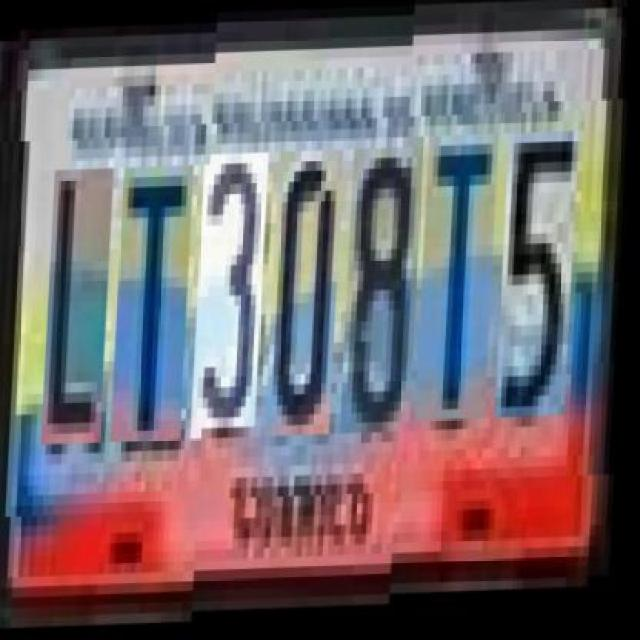0: (269, 142, 346, 428)
3: (196, 144, 272, 421)
5: (499, 135, 581, 422)
8: (345, 139, 426, 427)
l: (46, 148, 117, 426)
t: (419, 137, 501, 425), (115, 146, 197, 423)
